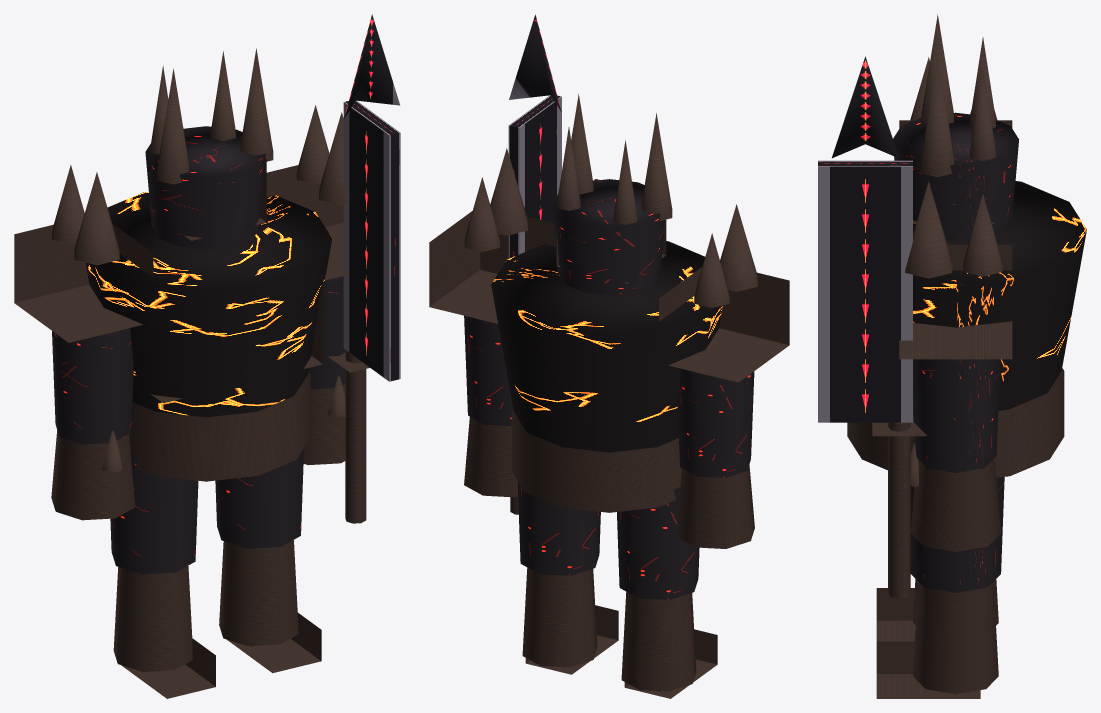
File: boss_kalanemi.glb
3 views of the same model, side by side, from view 1: azimuth 30°, elevation 25°; view 2: azimuth 150°, elevation 25°; view 3: azimuth 270°, elevation 25° (orthographic). The views are drawn at different scales.
Visible parts, largest first — view 1: Node_BossKalanemi; view 2: Node_BossKalanemi; view 3: Node_BossKalanemi.
Boxes of the visible parts, bbox=[...] form: Node_BossKalanemi: bbox=[14, 14, 400, 698]; Node_BossKalanemi: bbox=[429, 14, 789, 698]; Node_BossKalanemi: bbox=[818, 14, 1086, 698].
Bounding box in the file's own units: 1.75 × 3.25 × 1.19.
4 materials, 4 textured.
